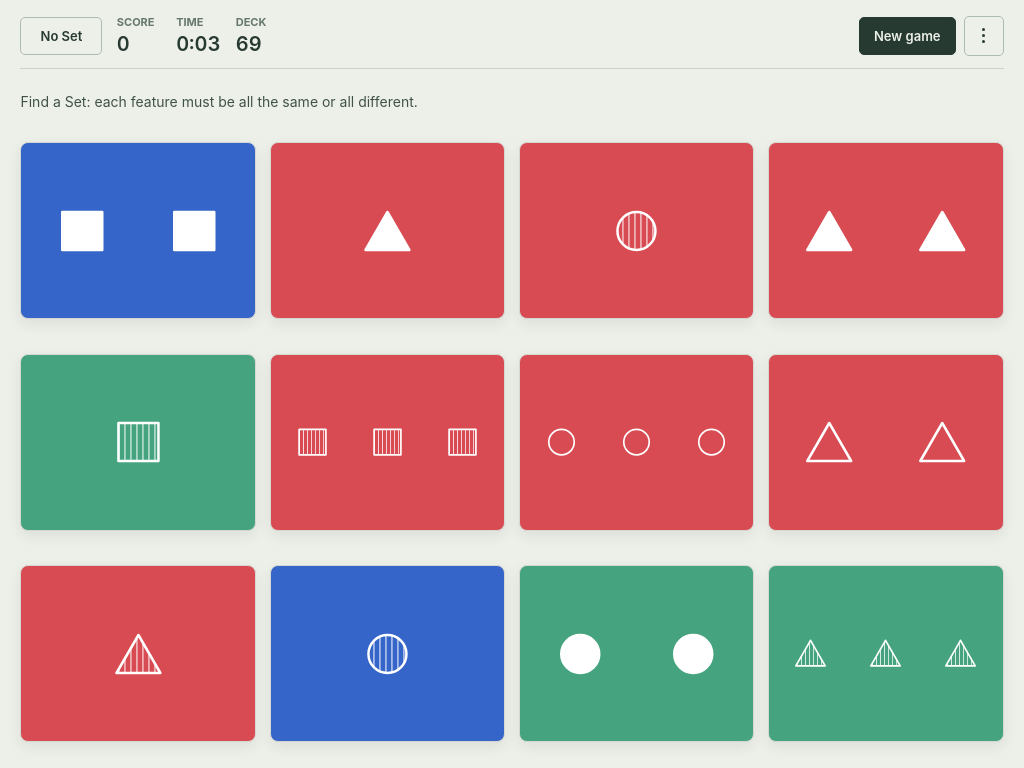
Test: runs a timer, finds a set, and restarts a solo game
Expected: the text "0:03" is shown, [176,32,220,56]
What coordinates should you click on to do the following:
click the 1st button with class "set-card"
I would click on:
 (138, 231)
Its box is [20,142,256,319].
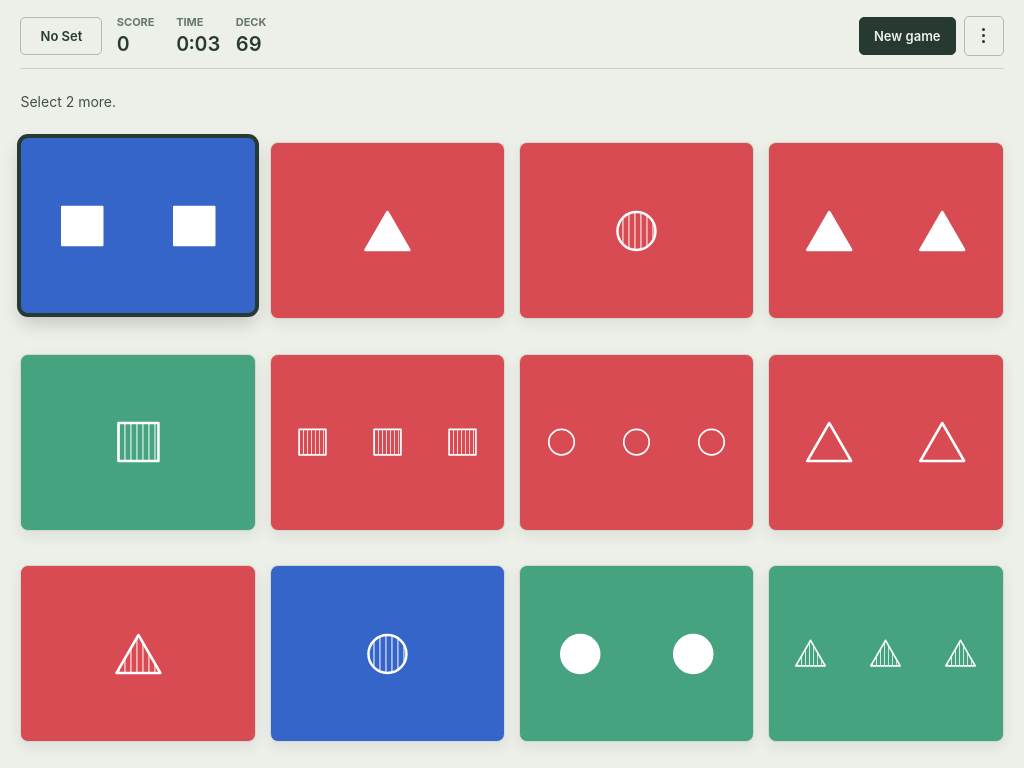
What coordinates should you click on to do the following:
click the 4th button with class "set-card"
I would click on:
 (886, 231)
Its box is [768,142,1004,319].
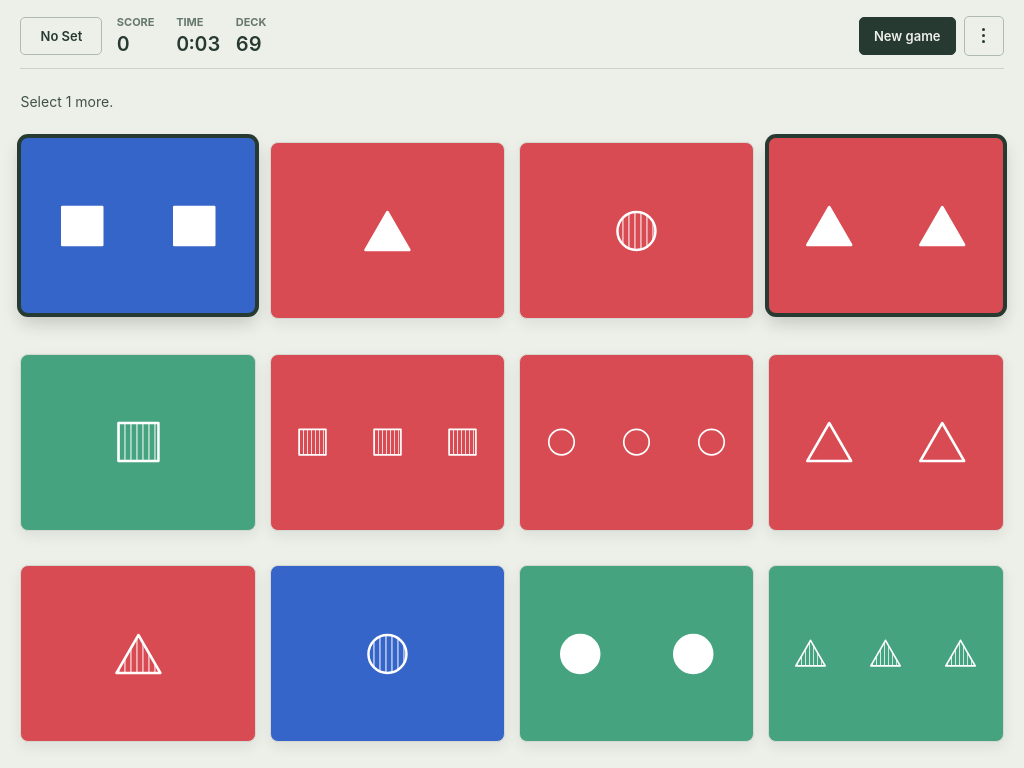
What coordinates should you click on to do the following:
click the 11th button with class "set-card"
I would click on:
 (637, 654)
Its box is [519,565,754,742].
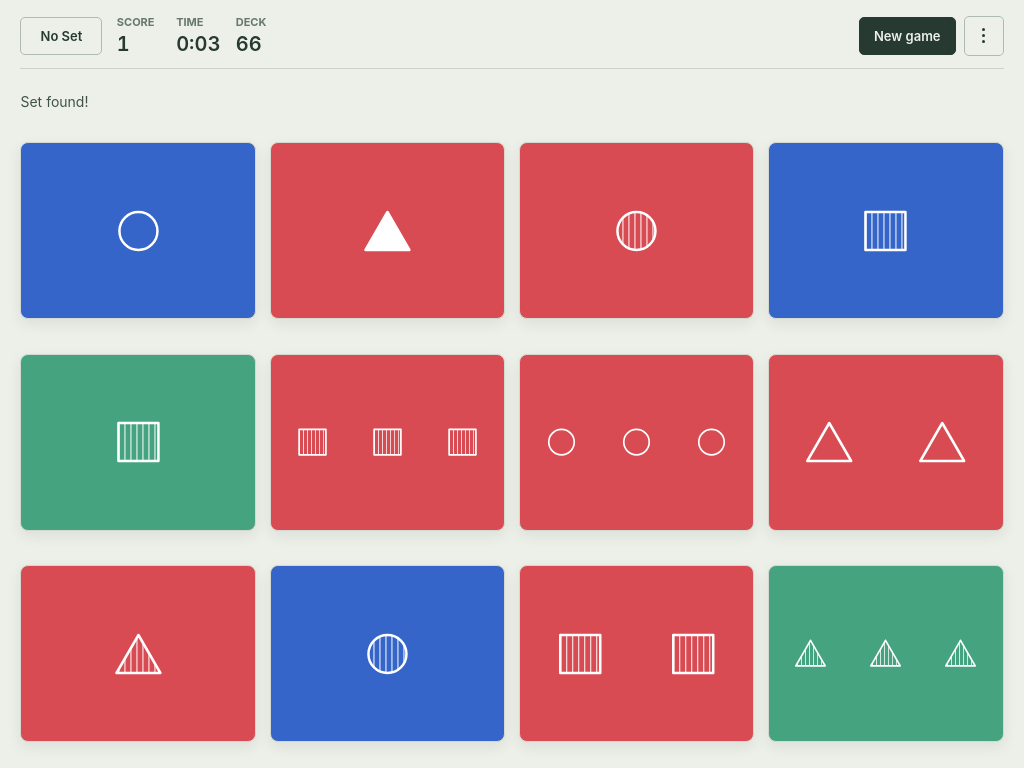
Result: the text "Set found!" is shown at [20,93,88,110]
Result: the text "1" is shown at [117,32,130,56]
What coordinates should you click on to do the following:
click the button "New game"
I would click on:
 (907, 36)
Its box is [859,17,956,55].
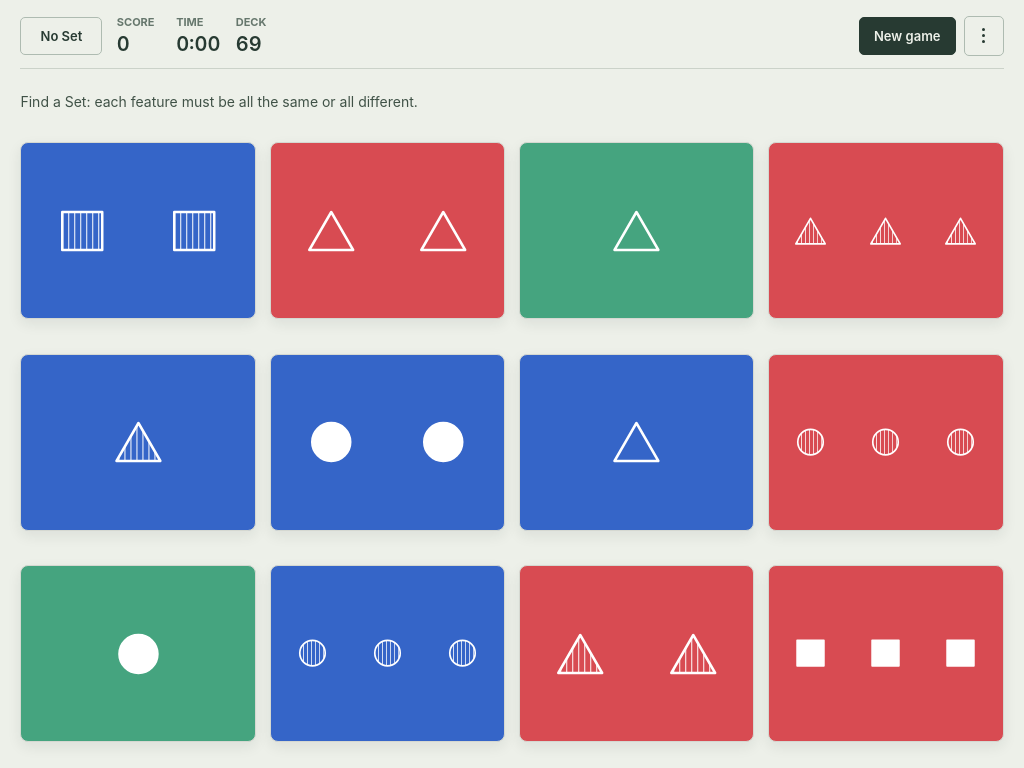
Result: the text "0" is shown at [117,32,130,56]
Result: the text "0:00" is shown at [176,32,220,56]
